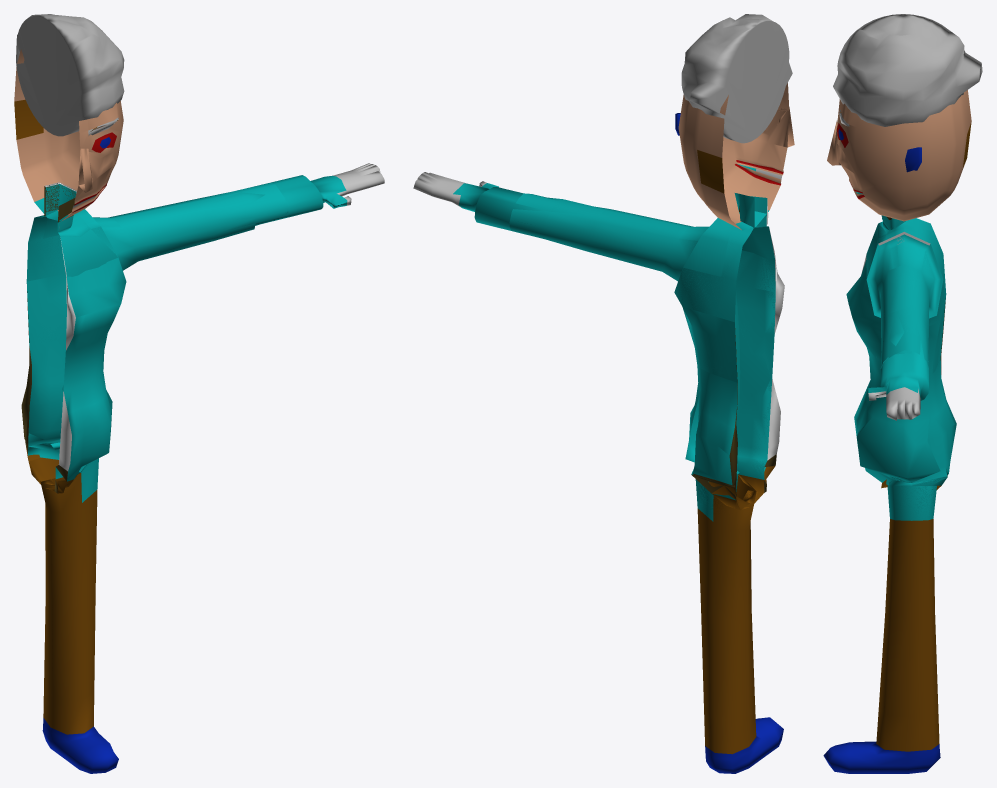
File: Gertruidatest.fbx
3 views of the same model, side by side, from view 1: azimuth 30°, elevation 25°; view 2: azimuth 150°, elevation 25°; view 3: azimuth 270°, elevation 25° (orthographic).
Visible parts, largest first — view 1: pSphere5; view 2: pSphere5; view 3: pSphere5.
Part boxes in pixels (left/top/right/bottom): pSphere5: left=14, top=14, right=384, bottom=773; pSphere5: left=413, top=14, right=794, bottom=773; pSphere5: left=823, top=14, right=982, bottom=773.
Size of the model in its own units: 6.3 by 13.19 by 2.57.
